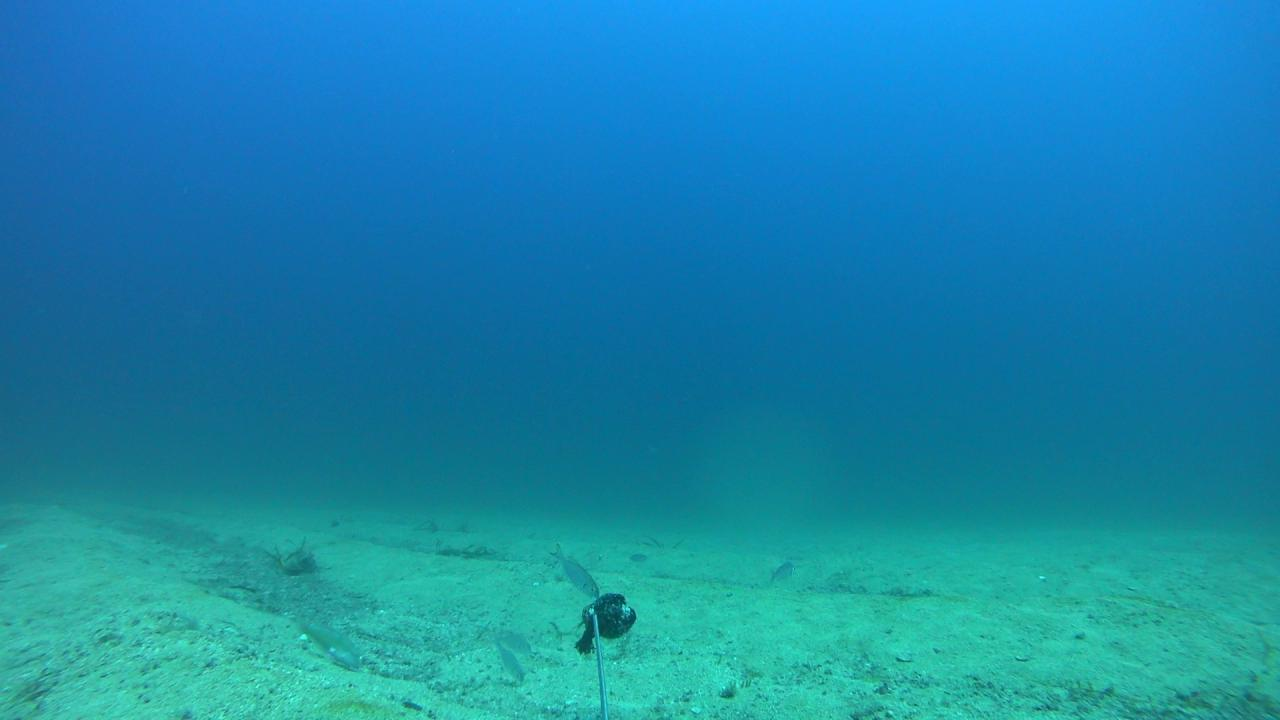pagellus: (548, 540, 599, 597), (477, 628, 534, 657), (492, 642, 524, 684), (771, 564, 794, 586)
raor: (292, 611, 362, 669)
